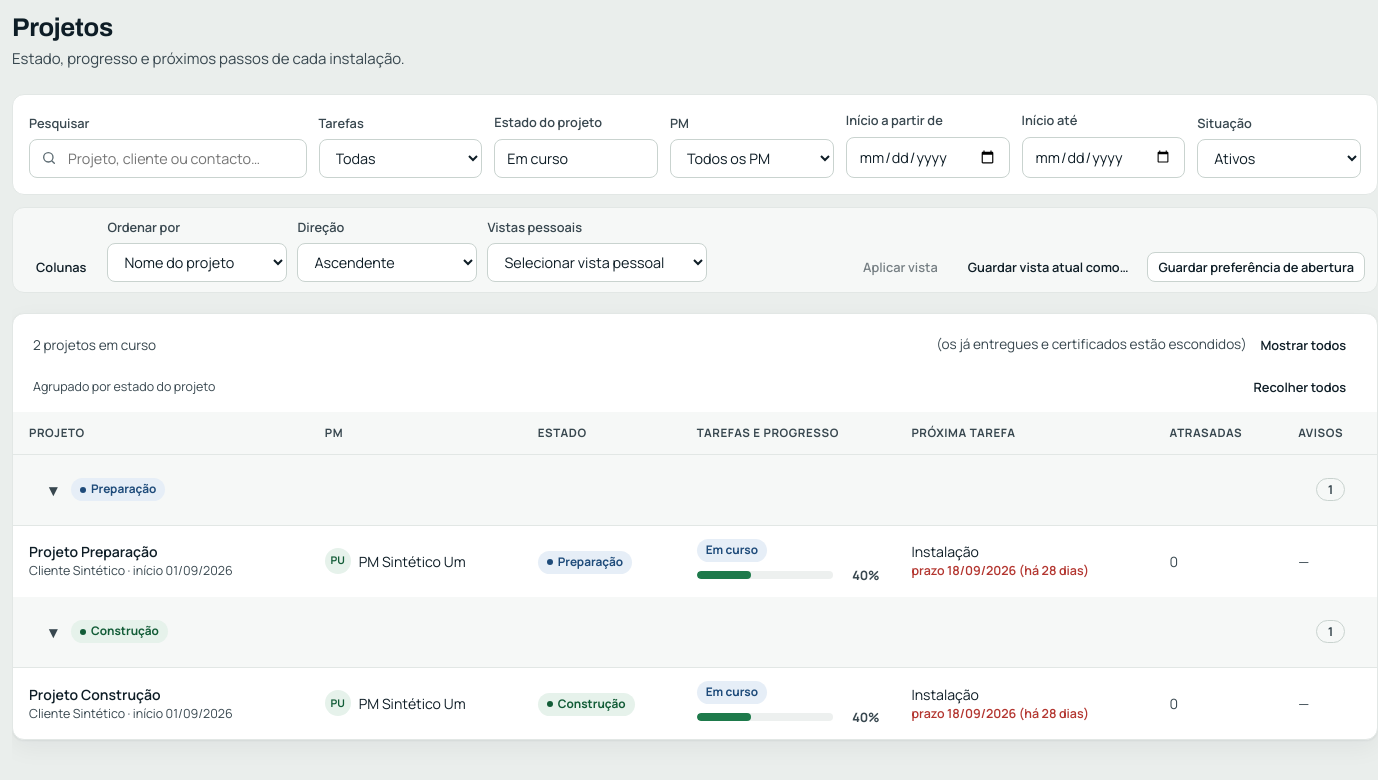
ProjectsList (filtros) › permite fechar um grupo e conserva o estado fechado depois de recarregar por filtro
The image size is (1378, 780).
Expected: the link "Projeto Construção" is shown, [29,684,161,704]
Click the button with aria-label "Recolher grupo Construção (1 projeto)": (119, 632) [29,609,1361,655]
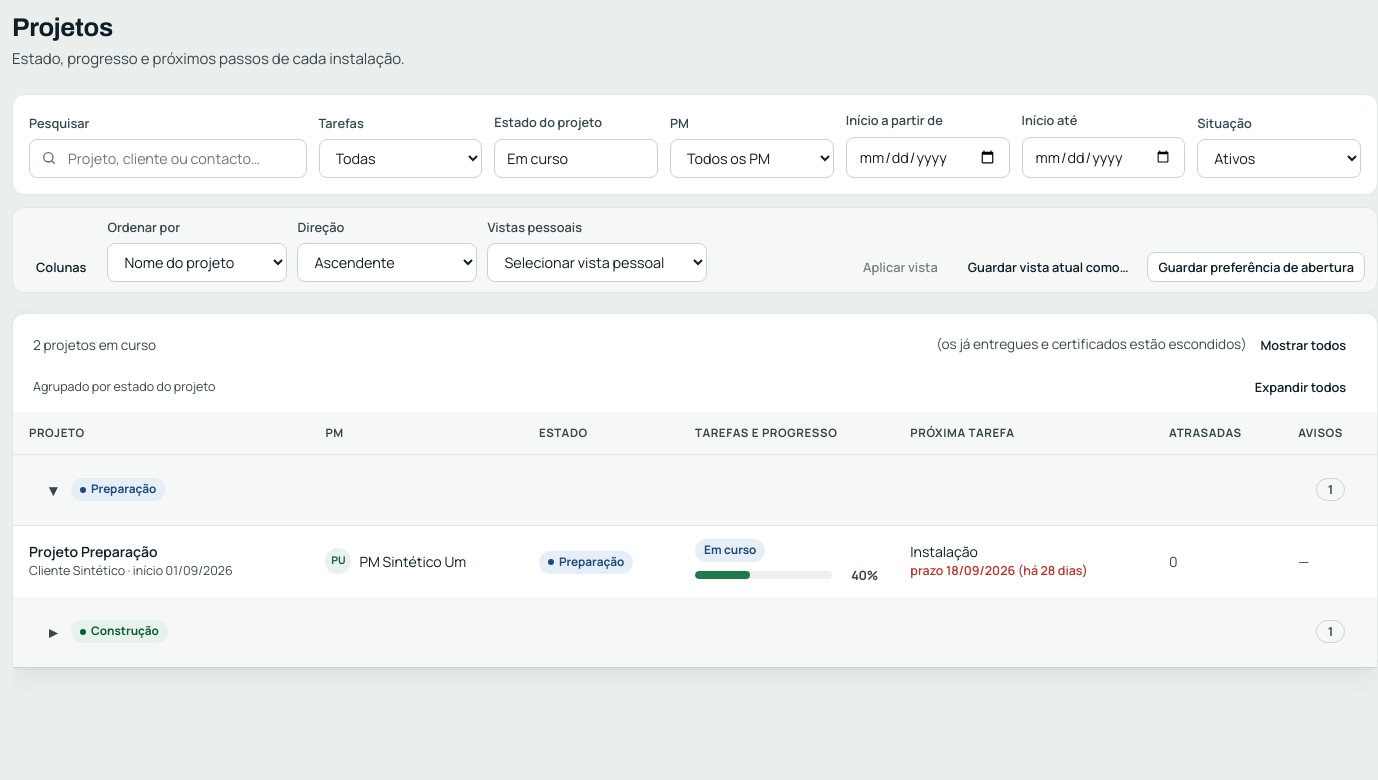
Expected: the button with aria-label "Expandir grupo Construção (1 projeto)" is collapsed, [29,609,1361,655]
Expected: the link "Projeto Construção" is gone
Select "Concluído" in the dropdown labelled "Tarefas": (400, 159) [318,139,482,178]
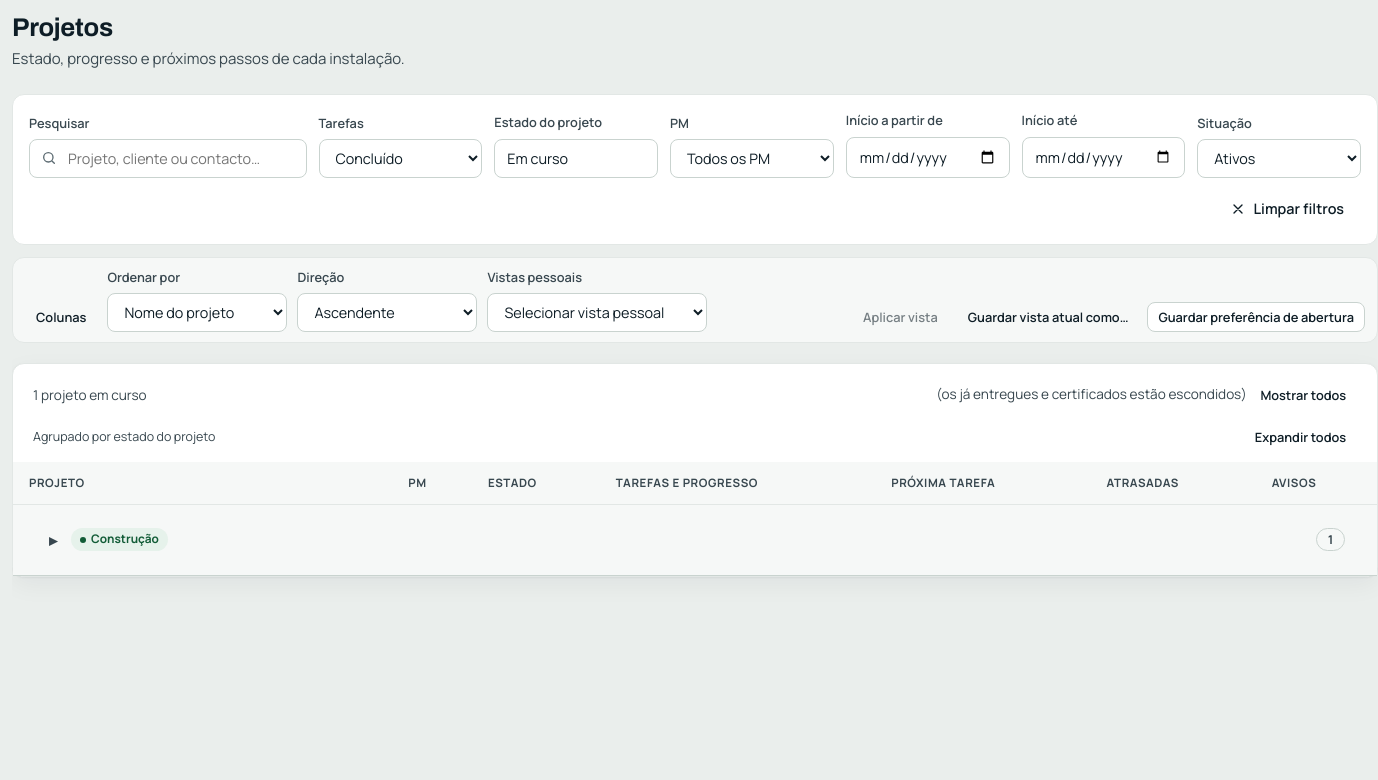
Expected: the link "Projeto Construção" is not shown
Click the button "Expandir todos": (1300, 438) [1244,422,1357,452]
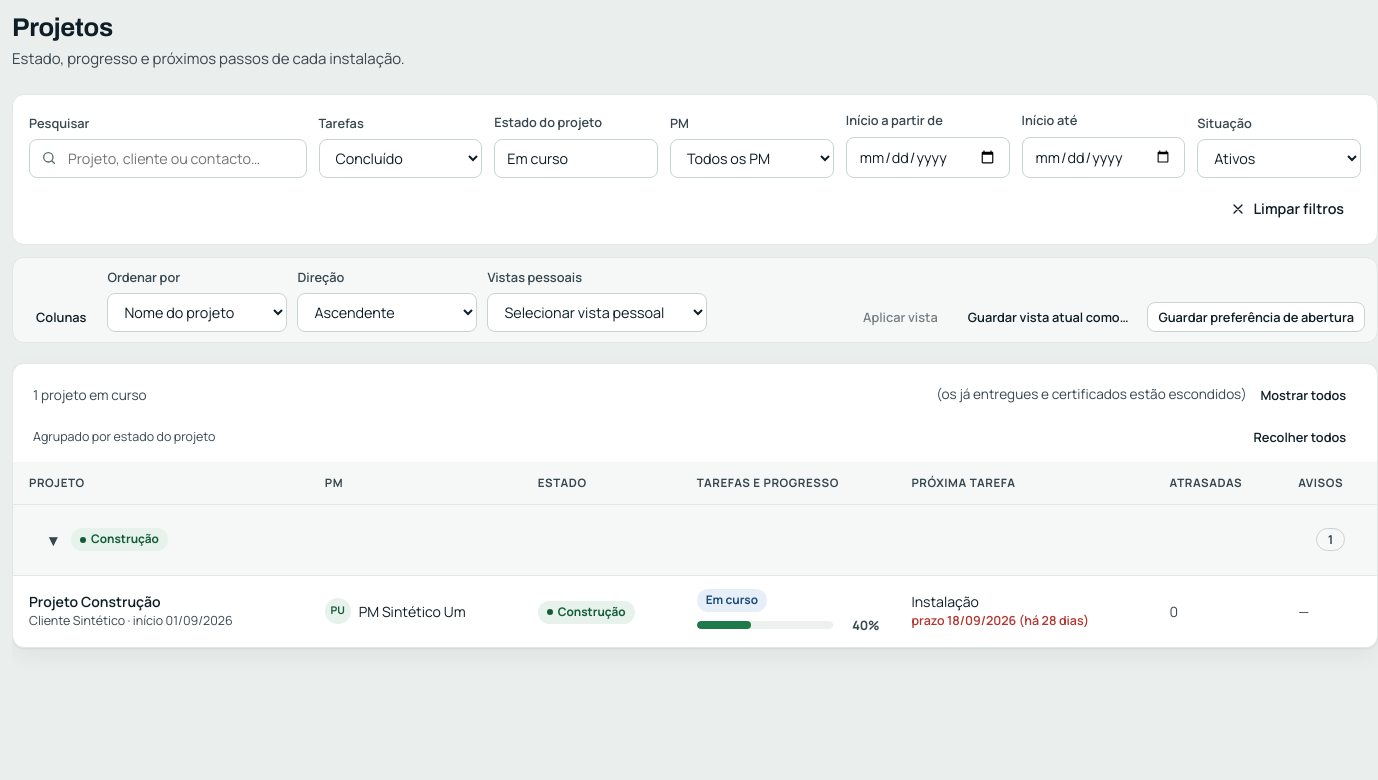
Expected: the button with aria-label "Recolher grupo Construção (1 projeto)" is expanded, [29,517,1361,563]
Expected: the link "Projeto Construção" is shown, [29,592,161,611]
